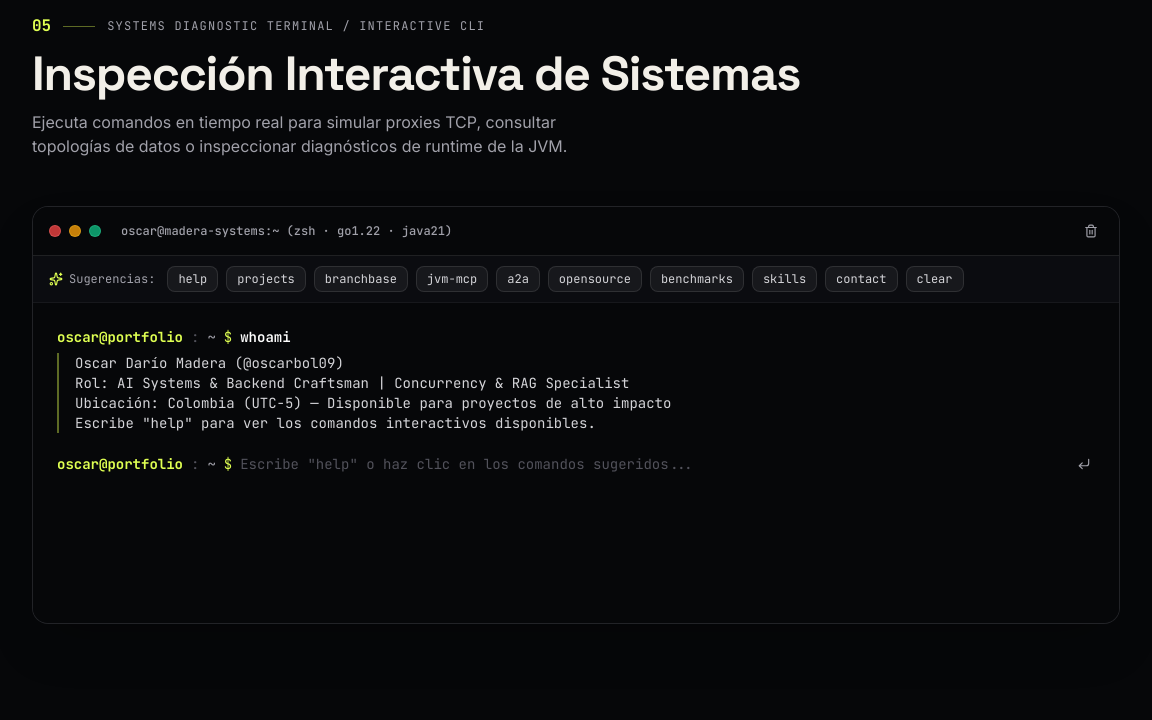
Test: Component: TerminalSection Integration › should clear terminal history when "clear" command is submitted
(page scrolled)
// Run clear
Type "clear" into the field with placeholder "Escribe \"help\" o haz clic en los comandos sugeridos..." at (653, 464), box [240, 454, 1065, 474]
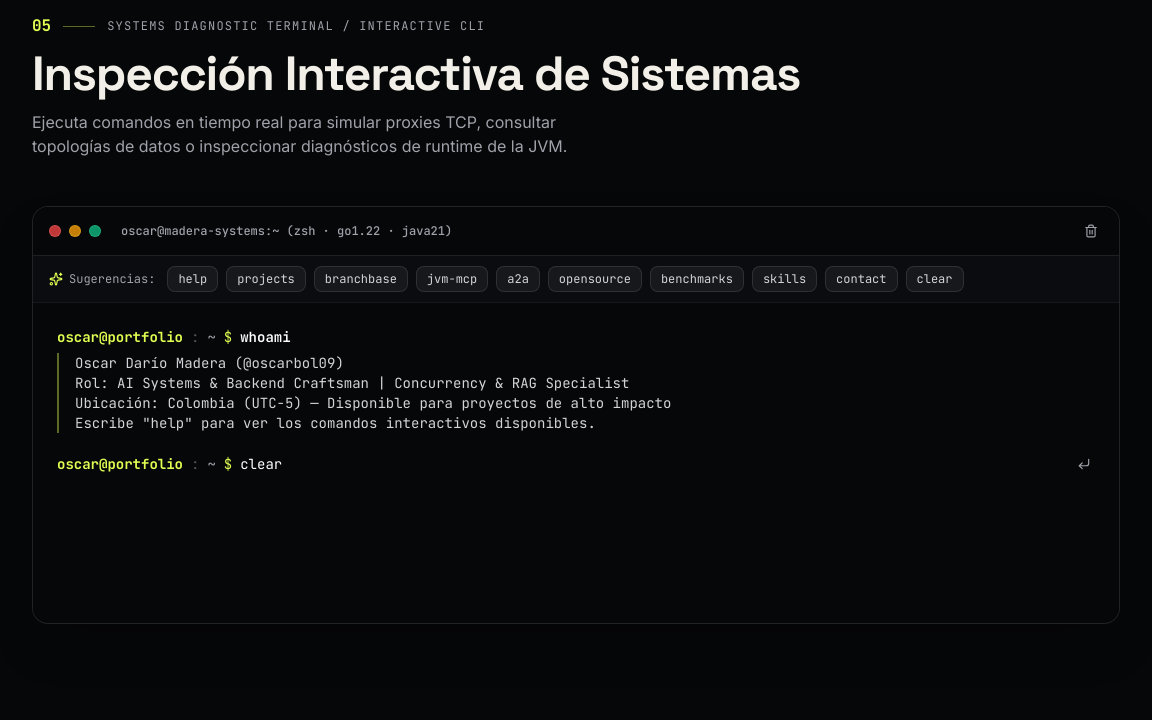
Press Enter in the field with placeholder "Escribe \"help\" o haz clic en los comandos sugeridos...", box [240, 454, 1065, 474]
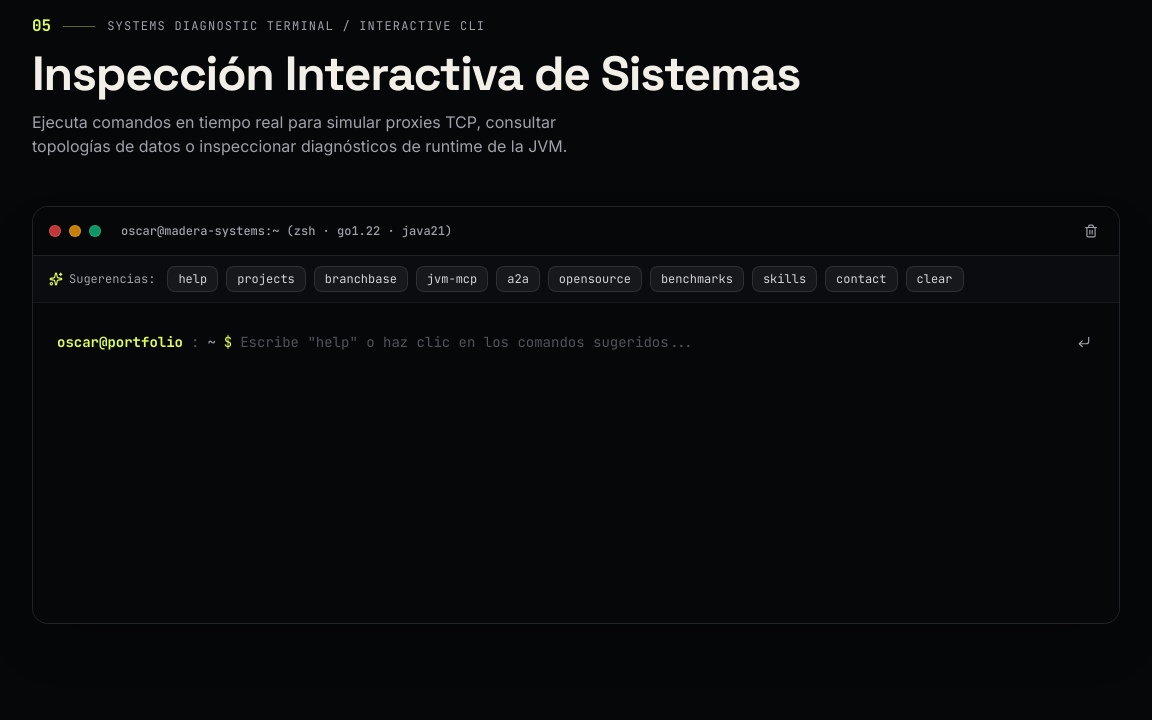
Now the text "whoami" is gone
Now the text "Oscar Darío Madera" is gone
